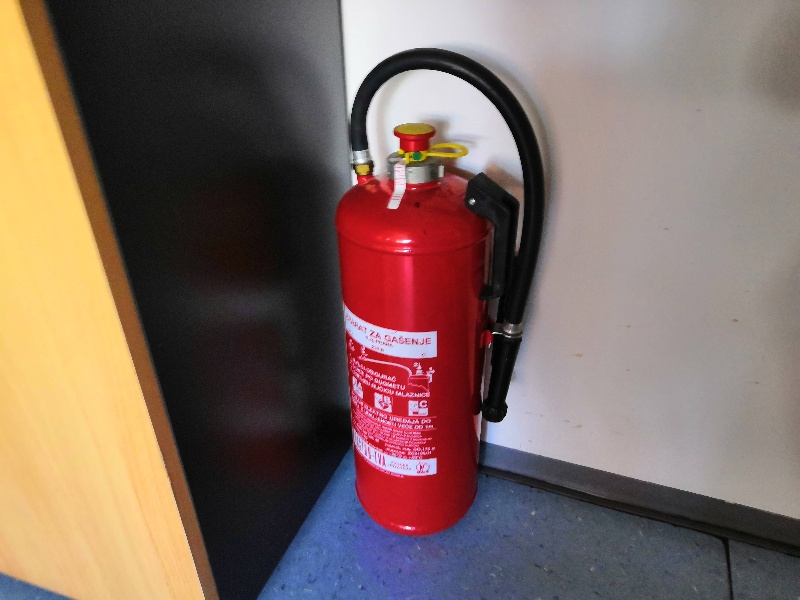vataparat: (335, 50, 545, 533)
